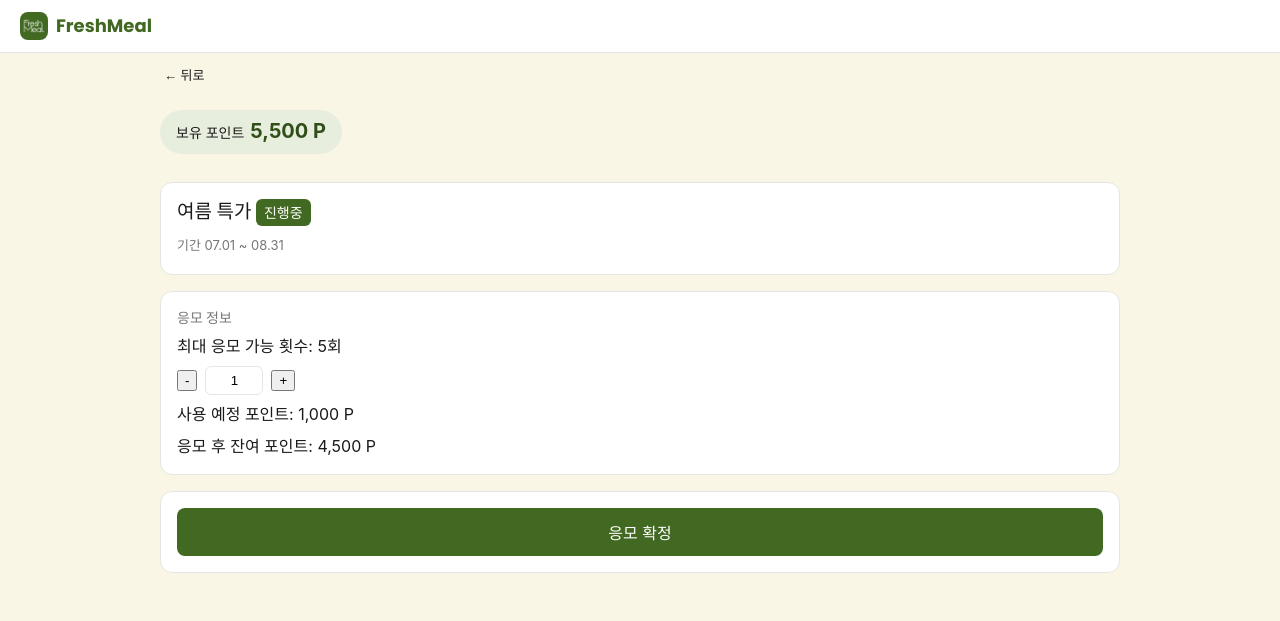
Test: EventDetailPage › 응모 성공 시 누적 응모 정보가 화면에 표시된다
Click the button "응모 확정": (640, 532) [177,508,1103,556]
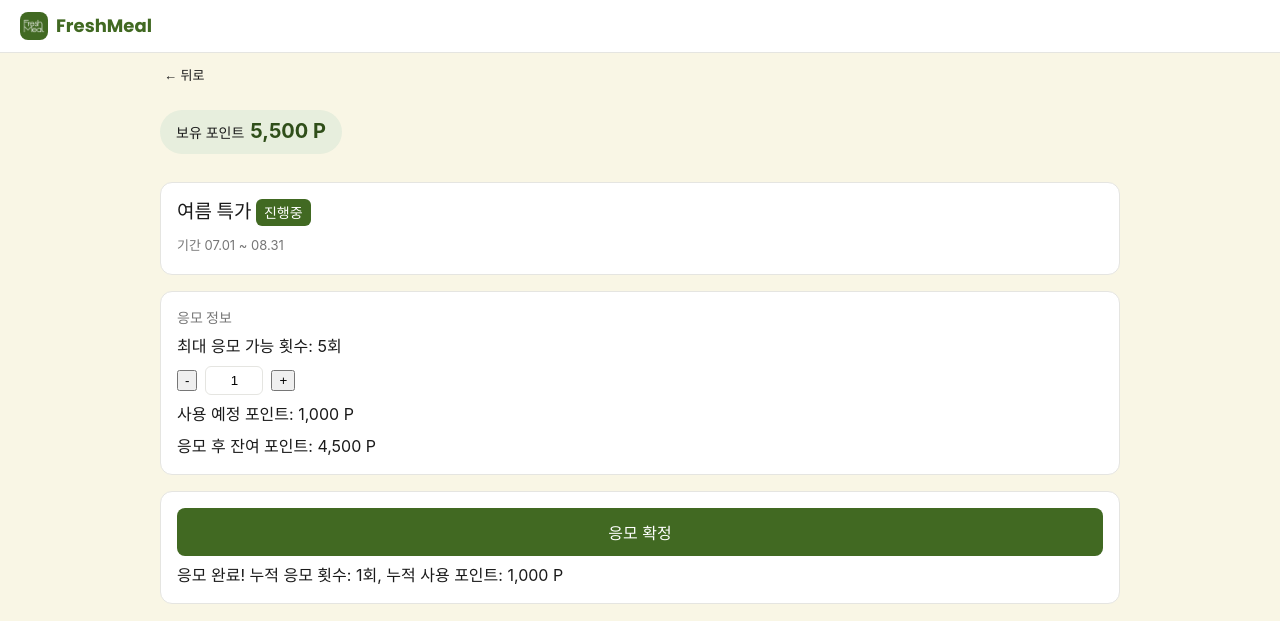
expect the text "응모 완료! 누적 응모 횟수: 1회, 누적 사용 포인트: 1,000 P" is shown: met, box [177,565,563,585]
